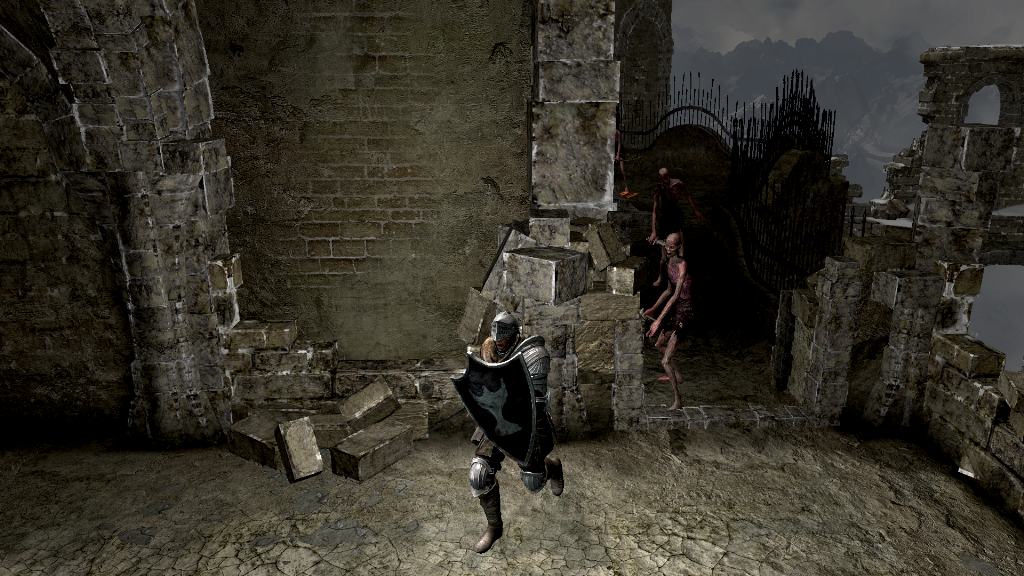hollow: (646, 232, 695, 411), (649, 166, 705, 288), (614, 124, 632, 191)
player: (450, 310, 568, 555)
